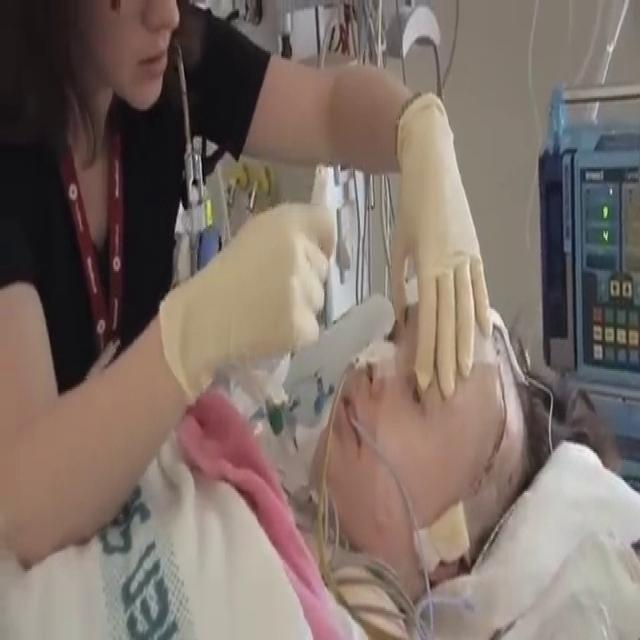monitor: (537, 80, 639, 442)
patient: (1, 284, 632, 638)
